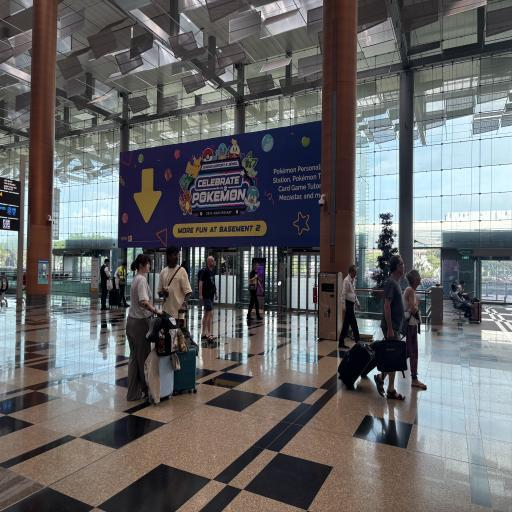person_right: (196, 252, 222, 351), (336, 259, 361, 346), (247, 258, 267, 325)
person_with_luggage_right: (338, 254, 406, 400)
